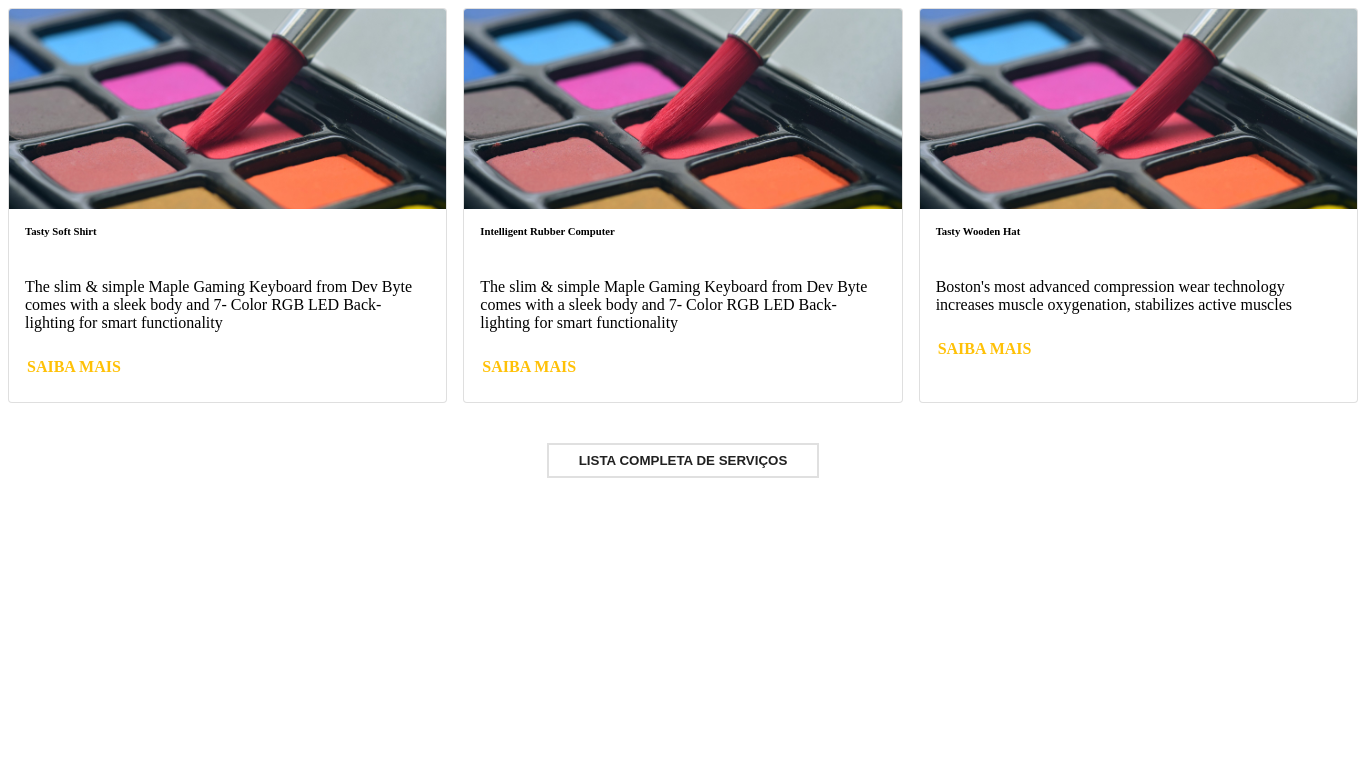
Scenario: Product Grid › should show more products on click show more button
Click the button "Lista completa de serviços" at [683, 460], box [547,443,819,478]
(page scrolled)
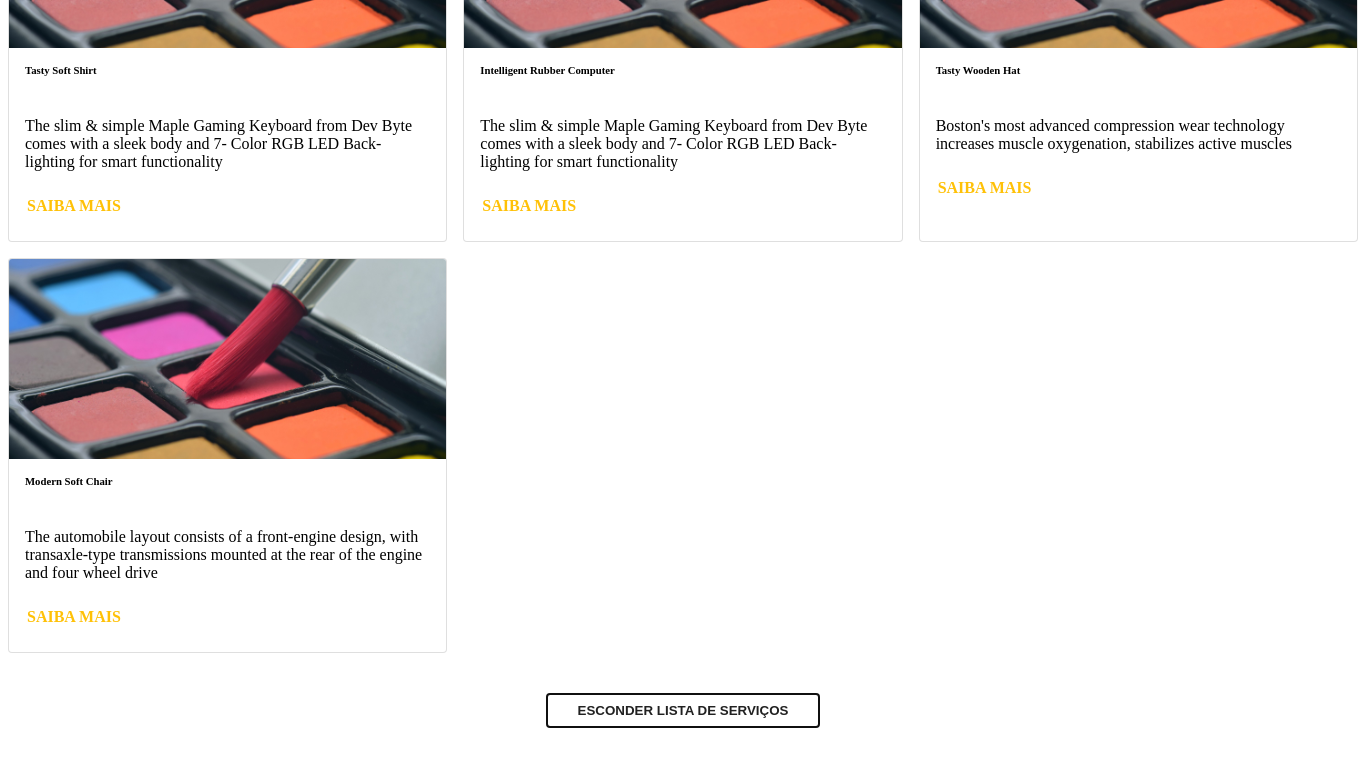
Now the heading "Modern Soft Chair" is shown, box [25,475,112,487]
Now the button "Esconder lista de serviços" is shown, box [546,693,820,728]
